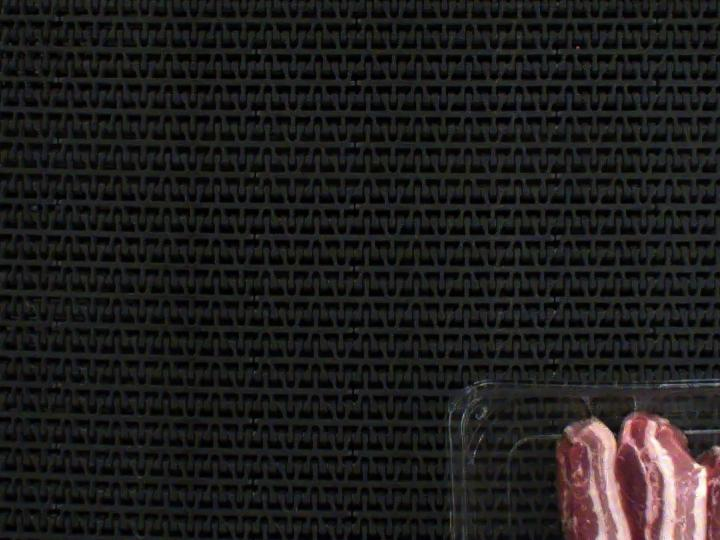packaging-error: (624, 392, 677, 418)
